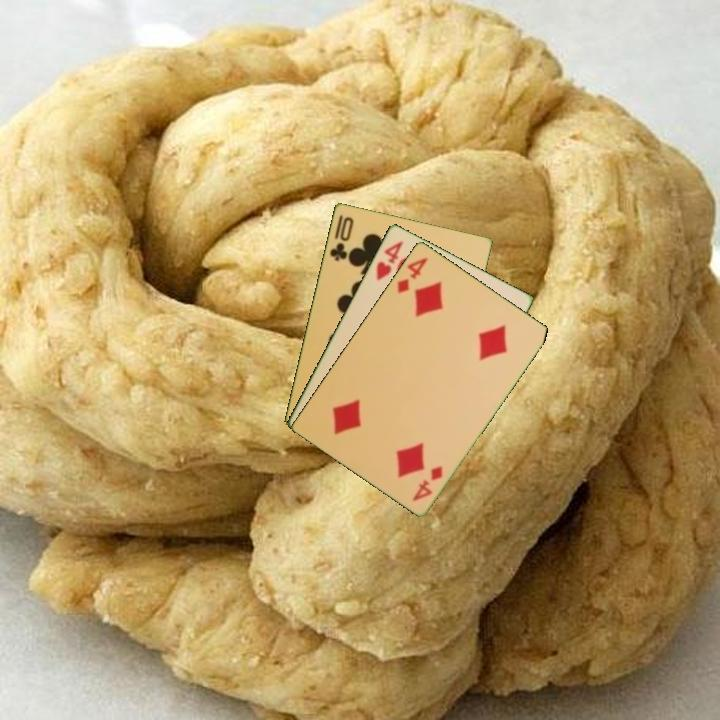10c: (326, 213, 356, 264)
4d: (393, 253, 430, 296), (409, 462, 446, 504)
4h: (372, 237, 406, 284)
